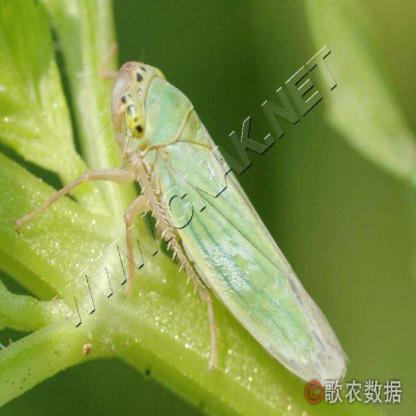Green-Leafhopper: (16, 44, 352, 390)
